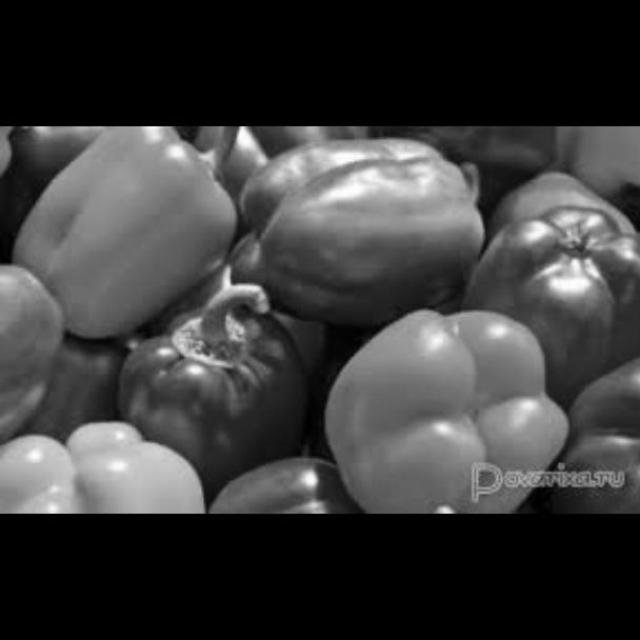ot chuong: (322, 303, 569, 512), (235, 128, 496, 324), (5, 125, 235, 334), (119, 290, 313, 483), (464, 200, 639, 378), (0, 414, 208, 511), (498, 125, 639, 229), (562, 355, 640, 512), (0, 245, 63, 435), (207, 443, 364, 511)
